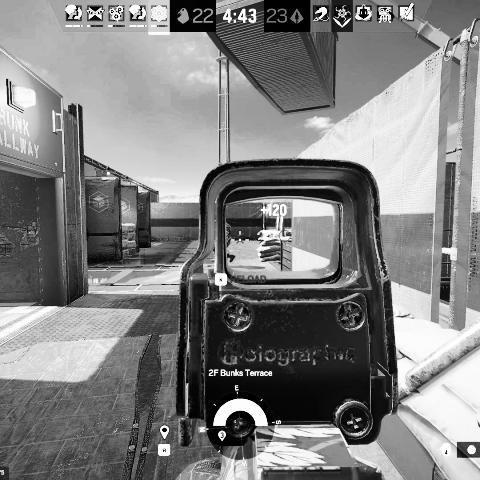Character: (226, 221, 236, 262)
